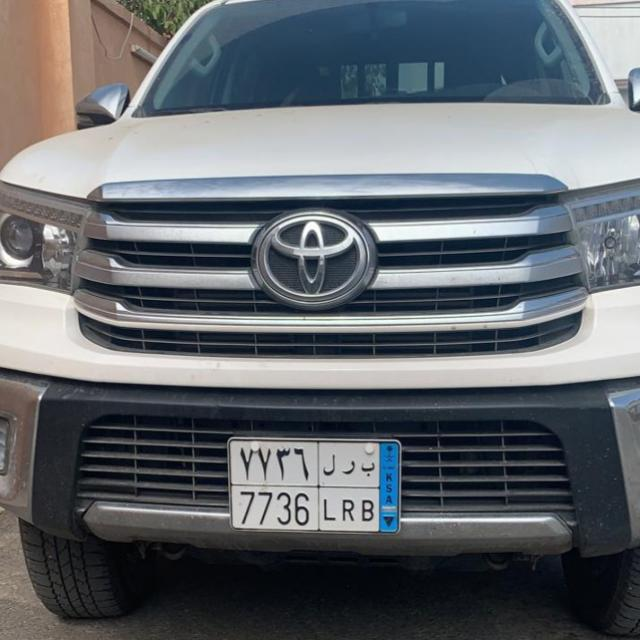license_plate: (225, 435, 406, 537)
